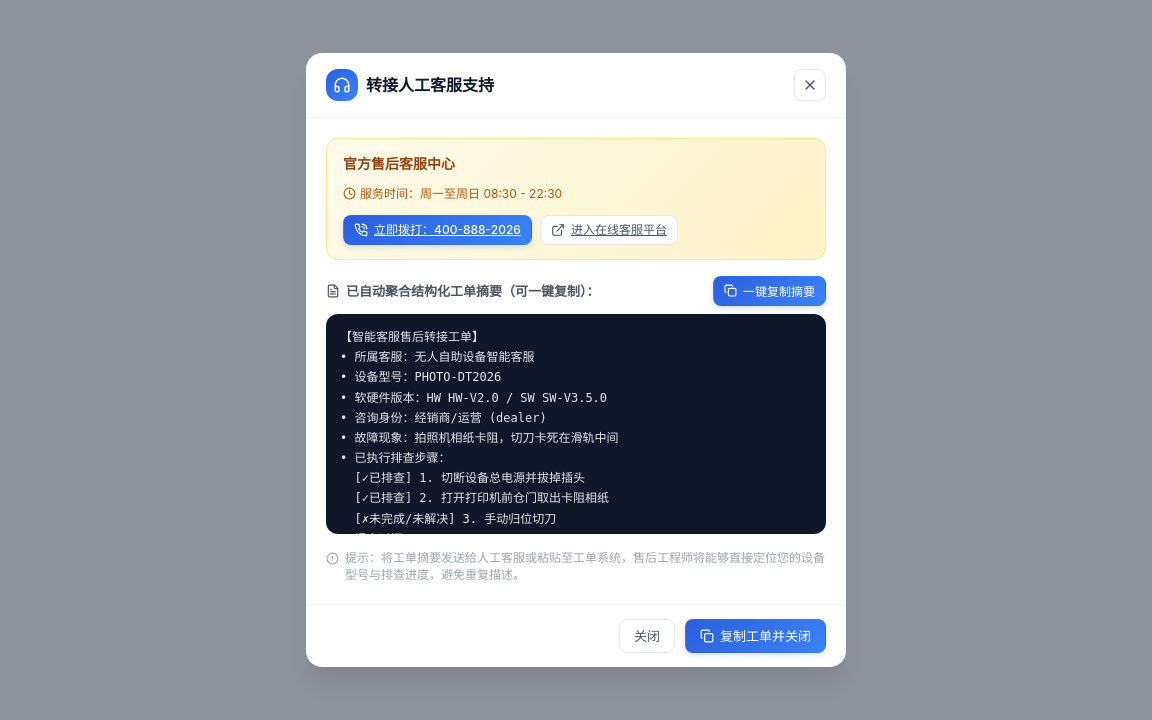
Test: Tier 1 & 2 Component: Human Handoff Ticket Aggregation Modal (F-14 / F-15) › T1-HND-04: clicking copy ticket button copies full formatted ticket to clipboard with feedback
This screenshot has width=1152, height=720.
Step 1. Click the button "一键复制摘要" → (770, 291), box [713,276,826,306]
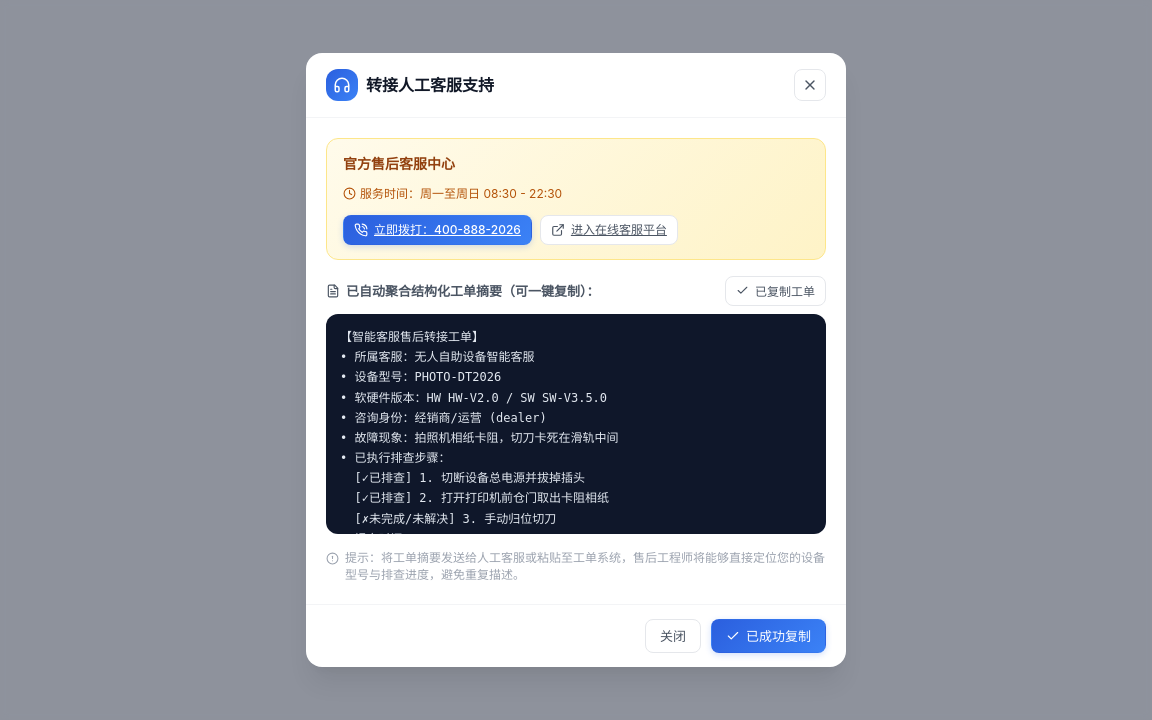
Result: the text "已复制工单" is shown at [755,282,815,300]
